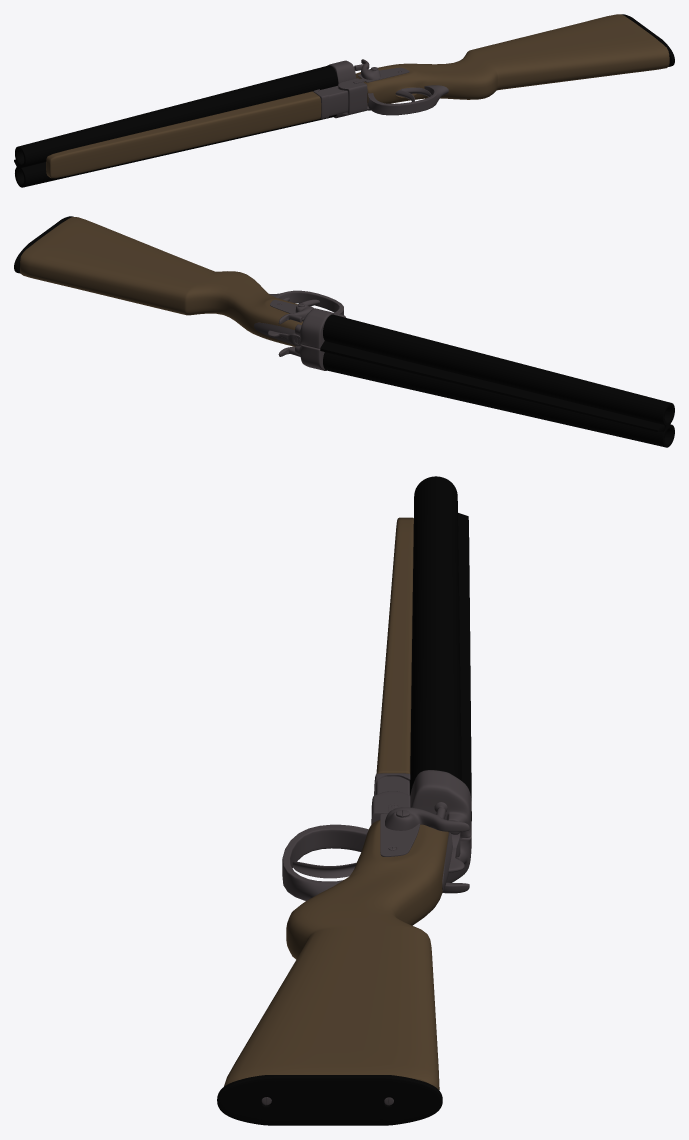
Rendered from Shotgun.fbx.
3 renders of one model, top to bottom at view 1: azimuth 30°, elevation 25°; view 2: azimuth 150°, elevation 25°; view 3: azimuth 270°, elevation 25°, orthographic. The views are drawn at different scales.
Parts seen in each view (by area): view 1: Holder, Down Support, Barrel, Down Suport Holder, Trigger Space, Support, Side Plate, Ignition, Rester; view 2: Barrel, Holder, Support, Trigger Space, Ignition, Upper Plate; view 3: Holder, Barrel, Rester, Down Support, Trigger Space, Support, Ignition, Down Suport Holder, Side Plate.
Boxes of the visible parts, <box> form: Holder: <box>355,14,669,105</box>; Down Support: <box>46,91,321,178</box>; Barrel: <box>14,65,338,187</box>; Down Suport Holder: <box>313,78,367,118</box>; Trigger Space: <box>368,85,448,115</box>; Support: <box>327,60,356,118</box>; Side Plate: <box>353,67,409,109</box>; Ignition: <box>354,59,380,110</box>; Rester: <box>621,14,674,66</box>; Barrel: <box>320,314,674,447</box>; Holder: <box>20,217,302,346</box>; Support: <box>295,308,334,370</box>; Trigger Space: <box>269,290,343,315</box>; Ignition: <box>278,304,313,356</box>; Upper Plate: <box>254,322,294,344</box>; Holder: <box>224,820,448,1089</box>; Barrel: <box>410,476,471,820</box>; Rester: <box>217,1075,442,1125</box>; Down Support: <box>376,517,413,773</box>; Trigger Space: <box>282,824,368,900</box>; Support: <box>410,770,471,882</box>; Ignition: <box>385,807,469,893</box>; Down Suport Holder: <box>371,773,410,824</box>; Side Plate: <box>380,803,419,856</box>.
Bounding box in the file's own units: 505 × 41.16 × 92.7.
